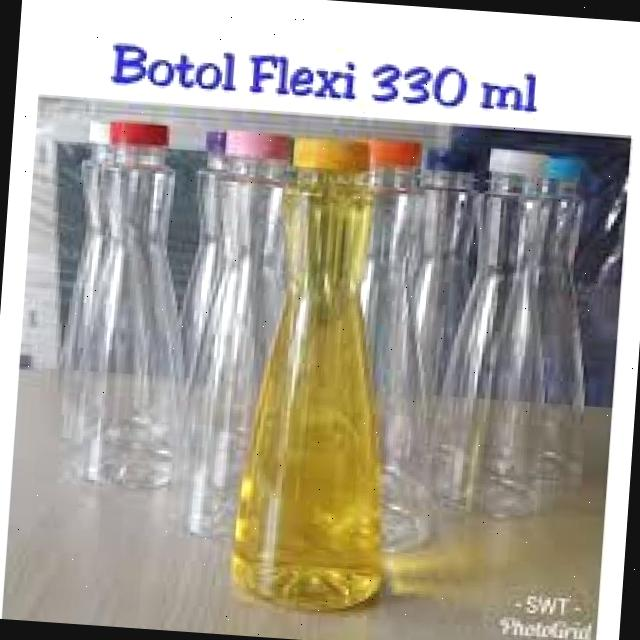bottle: (220, 141, 400, 634), (163, 113, 314, 554), (48, 120, 216, 510), (437, 144, 573, 518), (376, 140, 512, 512)
cap: (291, 128, 378, 174), (228, 126, 292, 172), (482, 144, 550, 178), (100, 114, 168, 147)
